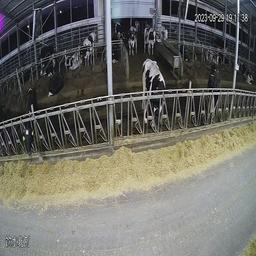cow: (140, 57, 167, 134), (19, 85, 40, 158), (203, 60, 222, 121), (76, 28, 97, 67), (47, 61, 64, 97), (143, 25, 158, 58), (63, 50, 84, 72), (39, 57, 60, 79), (36, 43, 55, 66), (126, 24, 138, 57), (239, 61, 254, 86), (112, 20, 126, 45), (213, 36, 229, 55), (105, 45, 119, 64), (206, 48, 221, 65), (179, 42, 189, 63), (159, 22, 169, 43)
